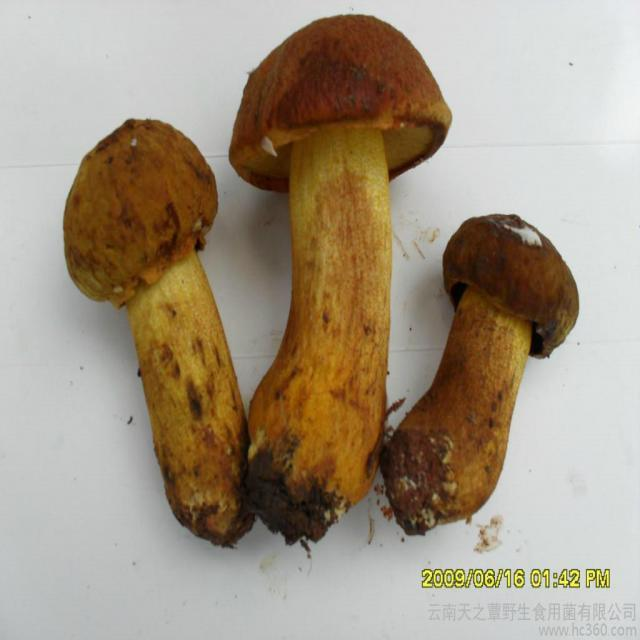Boletus: (231, 17, 452, 552), (63, 120, 253, 547), (383, 213, 580, 541)
